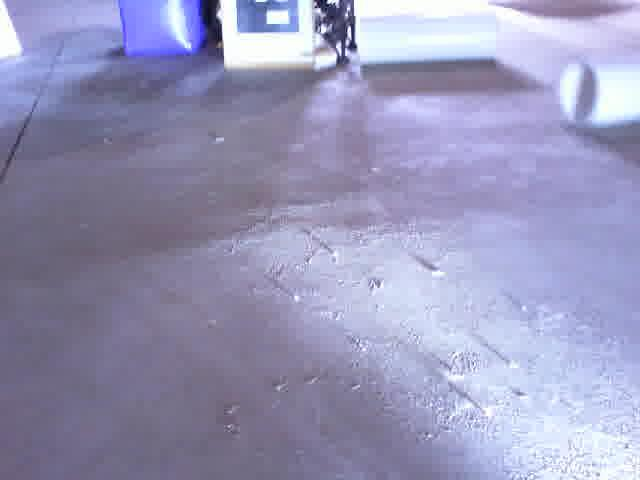coral: (349, 0, 502, 72), (547, 46, 640, 134)
